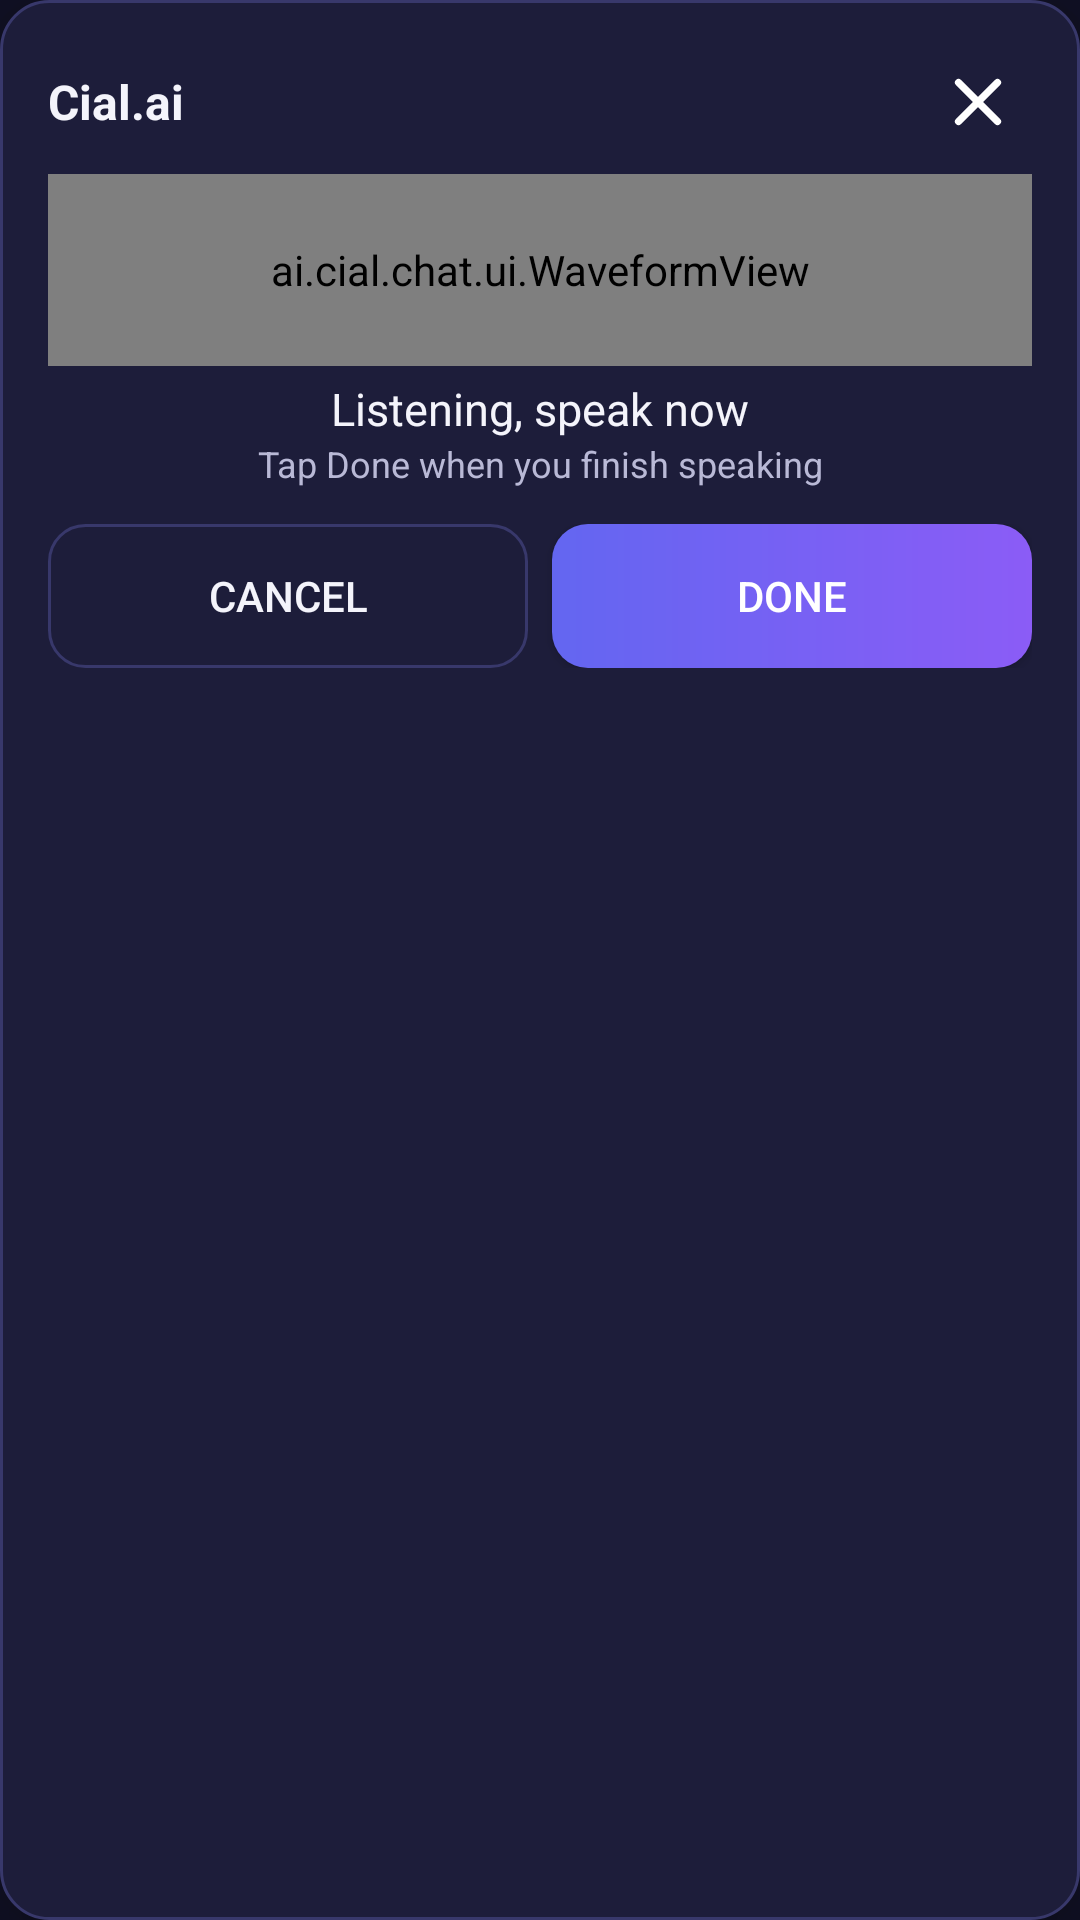

Where icons sit on this 1080*1920 app screen, as detection(x1, y1, x2, y2):
Close: detection(954, 78, 1002, 126)
